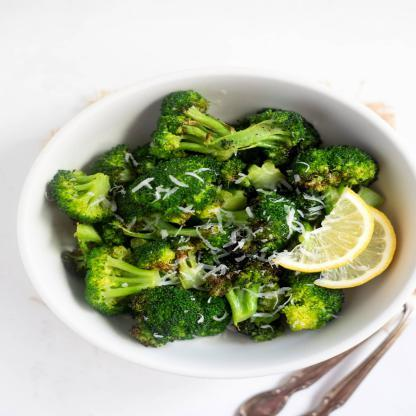broccoli: (44, 89, 386, 349)
